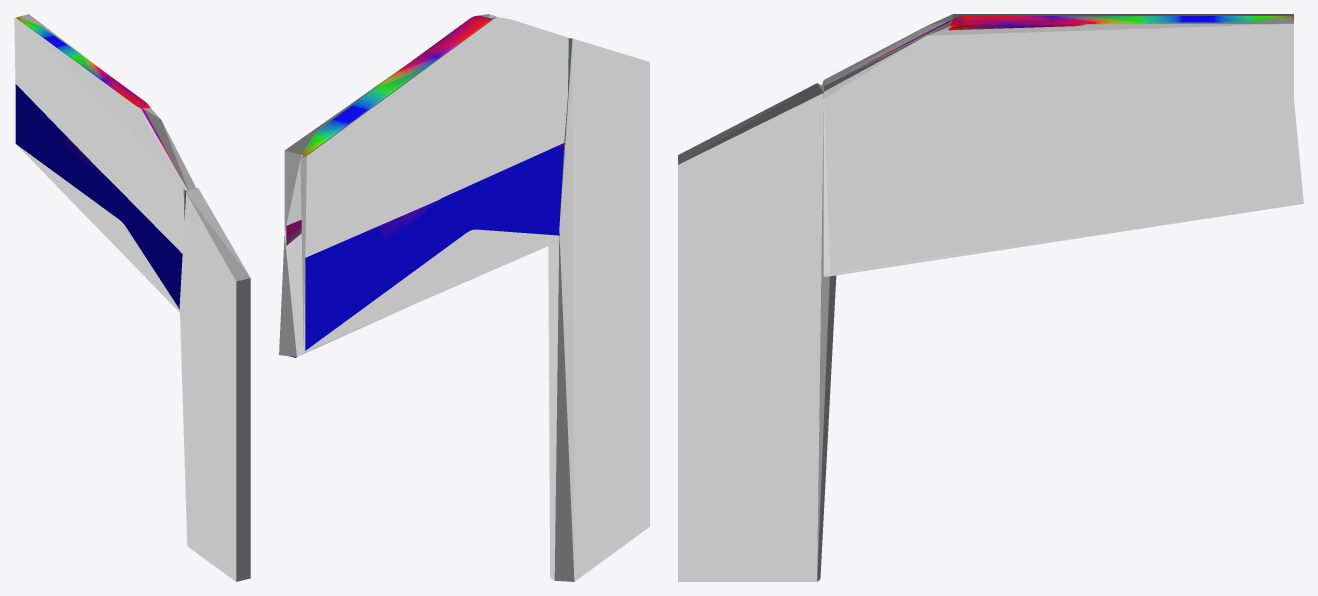
3 renders of one model, left to right at view 1: azimuth 30°, elevation 25°; view 2: azimuth 150°, elevation 25°; view 3: azimuth 270°, elevation 25°, orthographic. The views are drawn at different scales.
Visible parts, largest first — view 1: SM_Platform_Overhang_Wall_02_ConvexHulls, SM_Platform_Overhang_Wall_02_LOD0; view 2: SM_Platform_Overhang_Wall_02_ConvexHulls, SM_Platform_Overhang_Wall_02_LOD0; view 3: SM_Platform_Overhang_Wall_02_ConvexHulls, SM_Platform_Overhang_Wall_02_LOD0.
Boxes of the visible parts, x1,y1,x2,y2 form: SM_Platform_Overhang_Wall_02_ConvexHulls: (14, 14, 250, 581); SM_Platform_Overhang_Wall_02_LOD0: (15, 16, 186, 309); SM_Platform_Overhang_Wall_02_ConvexHulls: (279, 14, 649, 581); SM_Platform_Overhang_Wall_02_LOD0: (286, 15, 569, 357); SM_Platform_Overhang_Wall_02_ConvexHulls: (678, 14, 1303, 581); SM_Platform_Overhang_Wall_02_LOD0: (846, 16, 1293, 74).
Size of the model in its own units: 29.26 by 790 by 778.
